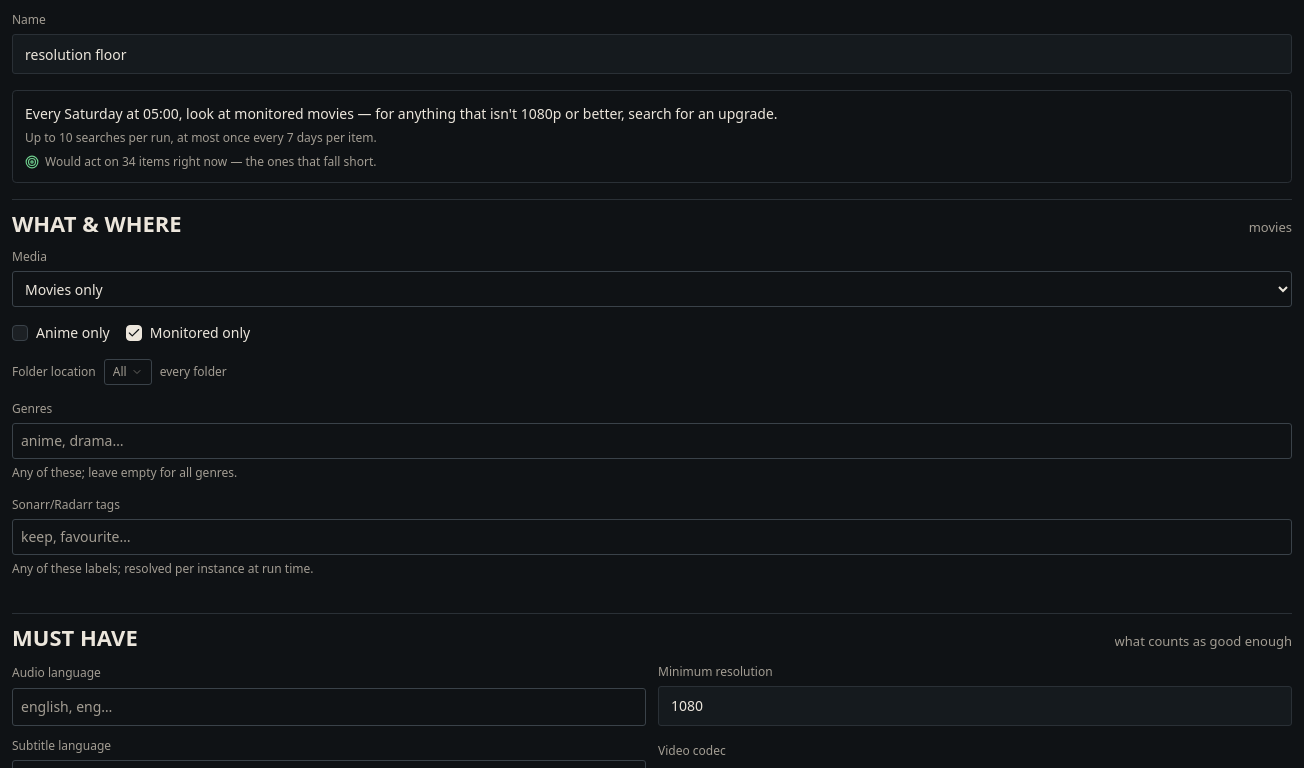
Test case: AutomationEditor › offers only the selected media's folders in the location picker
What coordinates should you click on to do the following:
click the button with aria-label "filter folder location"
I would click on:
 (128, 372)
Its box is [104,359,152,385].
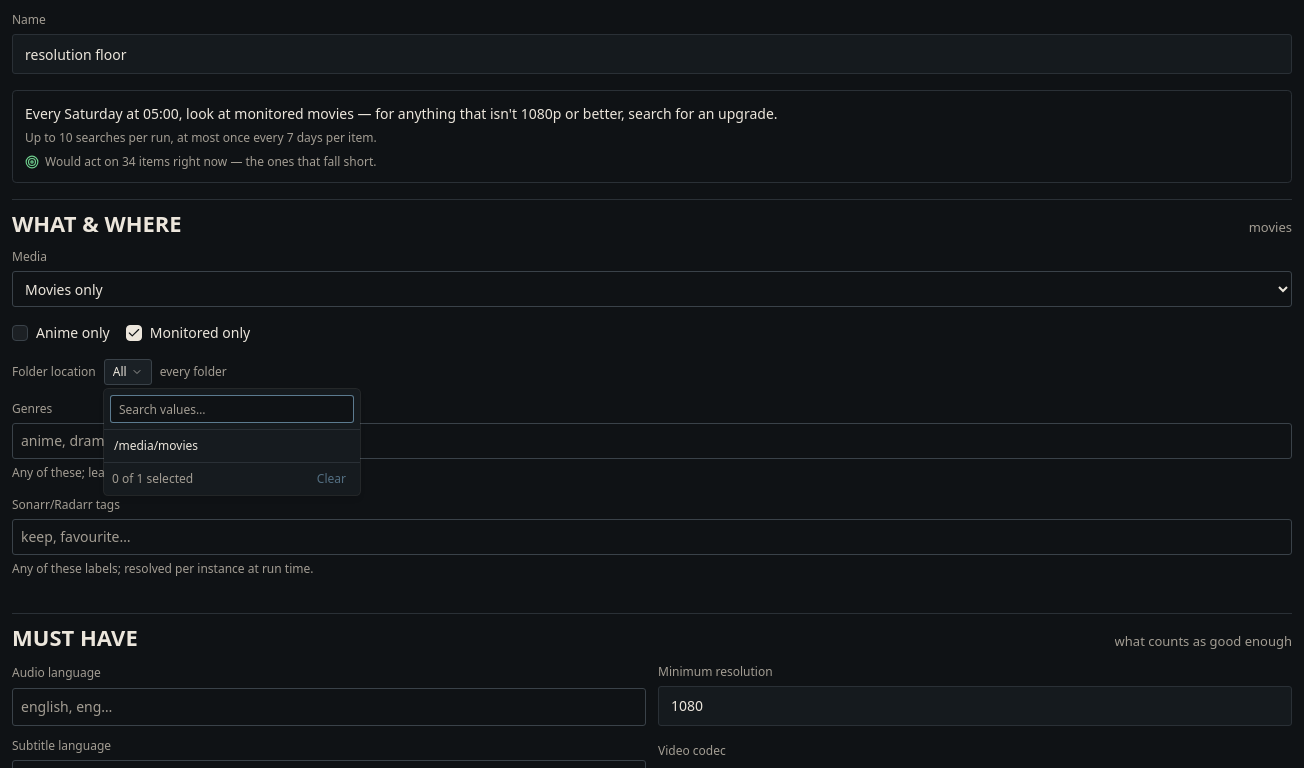
Check: the menu item "/media/movies" is shown, box [114,437,198,454]
